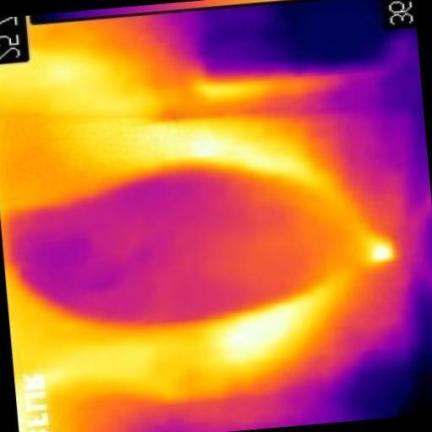mango: (10, 170, 354, 325)
